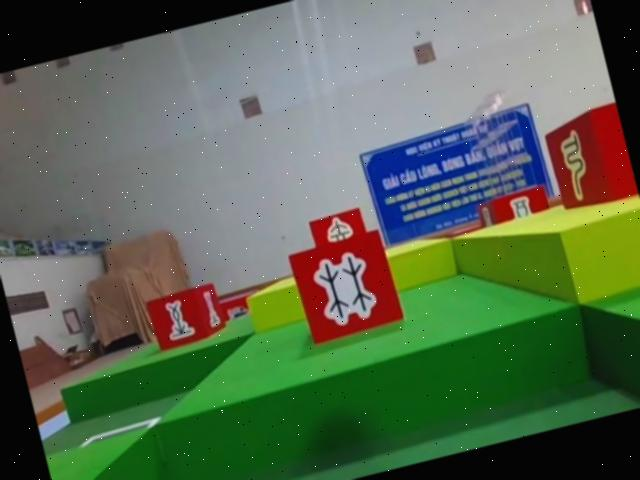R2 Fake: (535, 95, 638, 212)
R2 Real: (285, 226, 405, 346), (142, 283, 228, 353)
